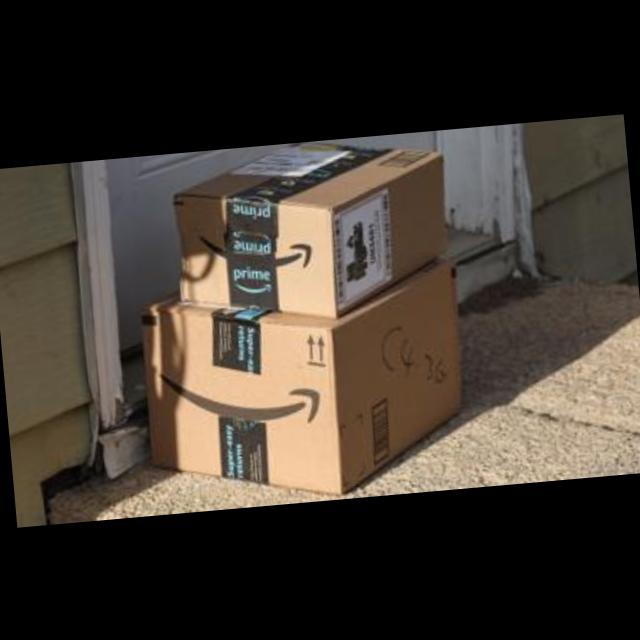box: (132, 257, 475, 512), (168, 129, 458, 328)
